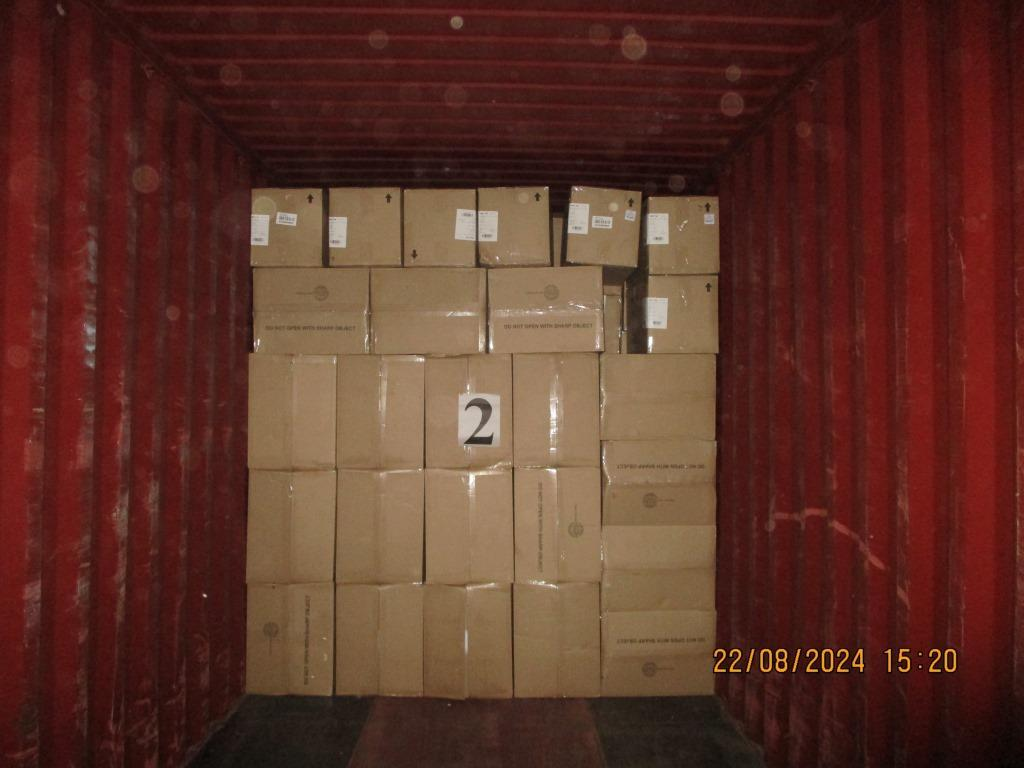carton: (371, 266, 487, 356), (252, 267, 370, 355), (244, 581, 334, 696), (422, 584, 512, 699), (425, 468, 514, 584), (247, 354, 336, 470), (513, 465, 601, 581), (246, 470, 336, 583), (487, 266, 602, 354), (335, 469, 423, 584), (600, 354, 716, 441), (600, 609, 716, 696), (513, 581, 600, 697), (425, 354, 513, 468), (335, 582, 423, 696), (601, 439, 716, 526), (336, 355, 423, 469), (601, 524, 716, 610), (513, 352, 598, 465), (622, 275, 719, 354), (565, 185, 642, 266), (639, 196, 718, 273), (402, 187, 478, 266), (249, 187, 323, 266), (476, 187, 550, 265), (328, 187, 402, 265)
